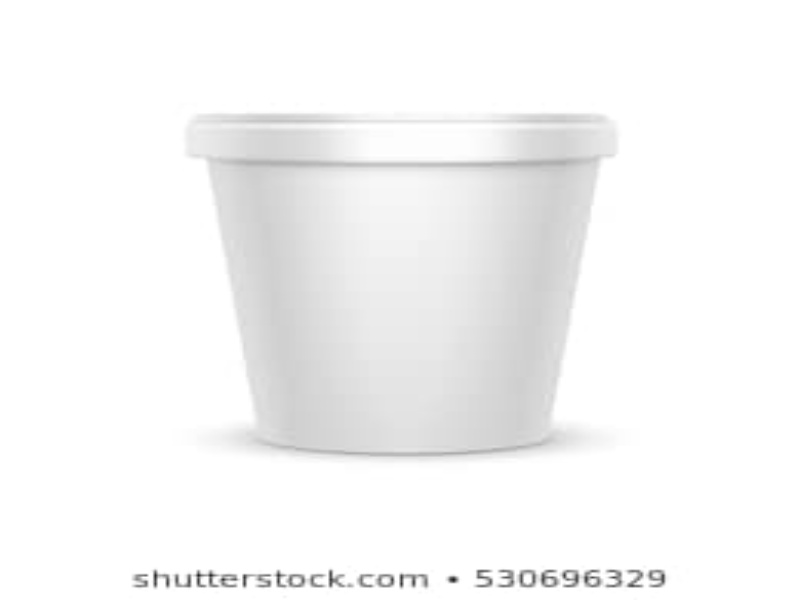plastic-container: (181, 109, 622, 455)
